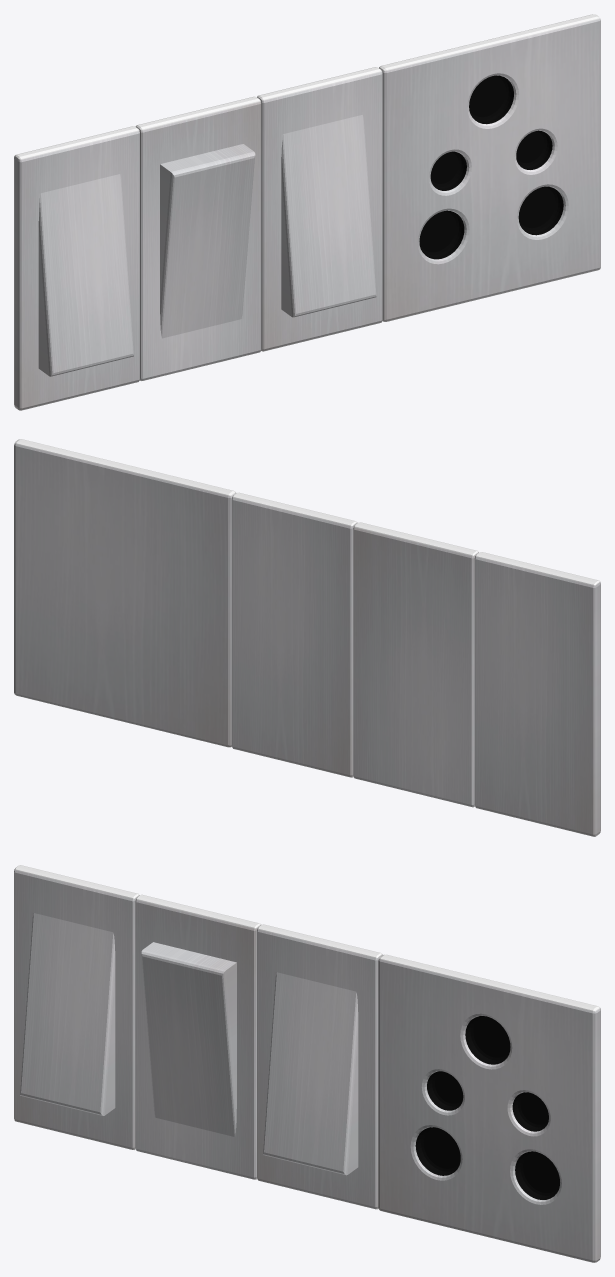
File: switchboard.glb
3 renders of one model, top to bottom at view 1: azimuth 30°, elevation 25°; view 2: azimuth 150°, elevation 25°; view 3: azimuth 330°, elevation 25°, orthographic.
Visible parts, largest first — view 1: Plane.002_0, Plane_1; view 2: Plane.002_0, Plane_1; view 3: Plane.002_0, Plane_1.
Boxes of the visible parts, left/top/right/bottom form: Plane.002_0: left=14, top=67, right=382, bottom=410; Plane_1: left=379, top=14, right=600, bottom=321; Plane.002_0: left=231, top=492, right=600, bottom=836; Plane_1: left=14, top=439, right=235, bottom=747; Plane.002_0: left=14, top=865, right=382, bottom=1209; Plane_1: left=378, top=954, right=600, bottom=1262.
Size of the model in its own units: 4.8 by 2 by 0.2834.
Materials: 3 (2 with a texture image).
